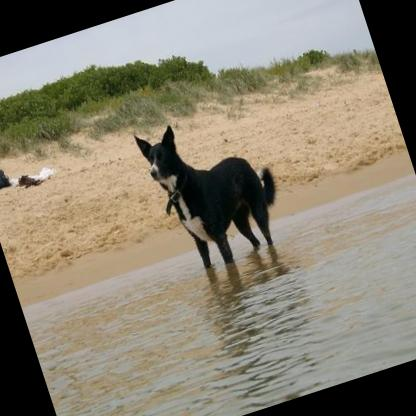kelpie: (133, 100, 293, 278)
